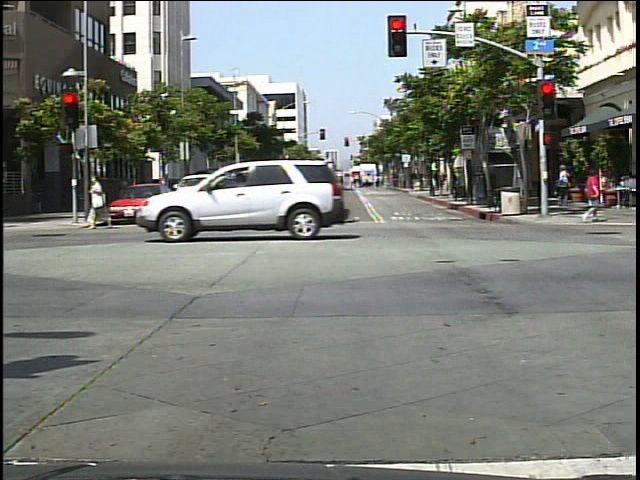person: (85, 172, 117, 236), (577, 169, 608, 229), (554, 161, 573, 211)
